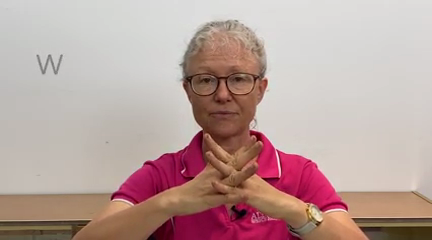W: (172, 124, 304, 220)
